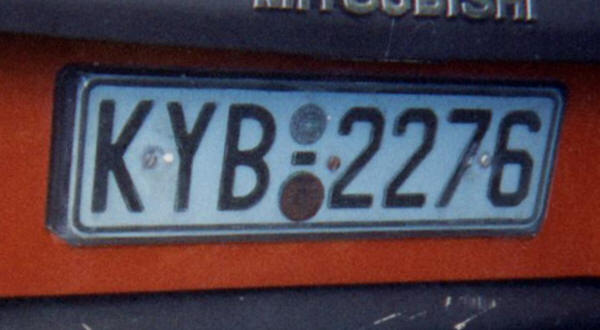license_plate: (69, 73, 565, 241)
